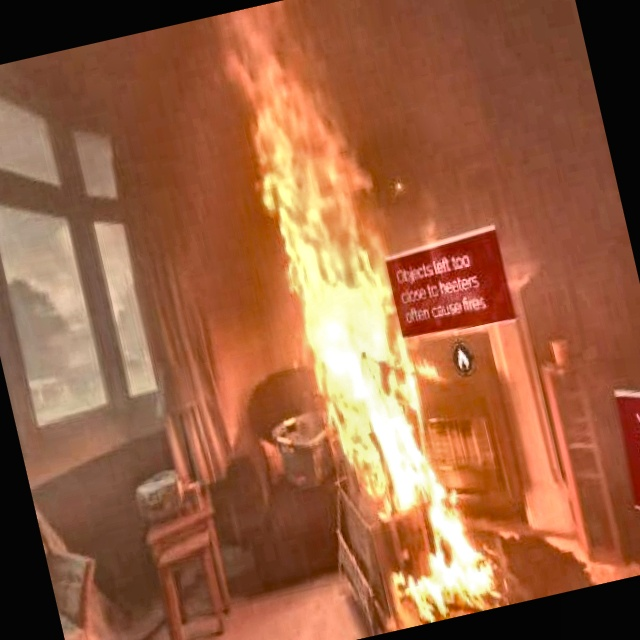fire: (181, 0, 481, 538)
